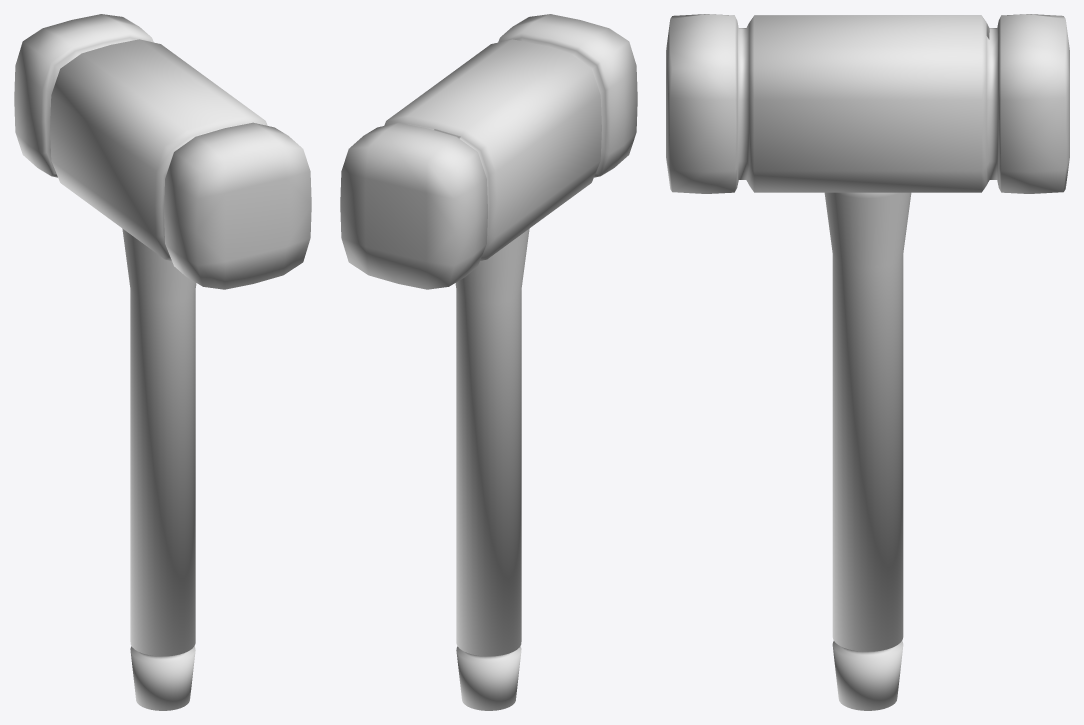
The model's file is Hammer.fbx.
The picture shows the model from 3 angles, left to right: view 1: azimuth 30°, elevation 25°; view 2: azimuth 150°, elevation 25°; view 3: azimuth 270°, elevation 25°; orthographic projection. The views are drawn at different scales.
Visible parts, largest first — view 1: Handle; view 2: Handle; view 3: Handle.
Boxes of the visible parts, x1=… form: Handle: x1=14, y1=14, x2=311, y2=710; Handle: x1=340, y1=14, x2=637, y2=710; Handle: x1=666, y1=14, x2=1069, y2=710.
Bounding box in the file's own units: 258 × 1238 × 676.
